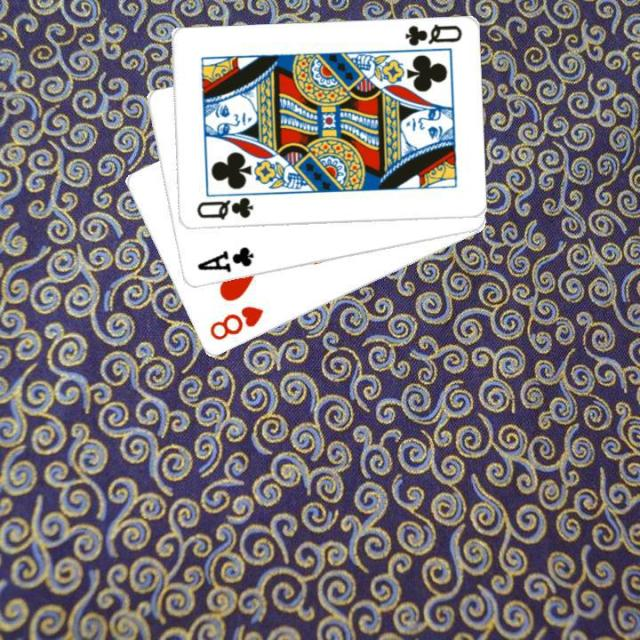8H: (205, 302, 266, 343)
AC: (193, 242, 255, 274)
QC: (401, 20, 463, 49), (192, 194, 255, 222)
